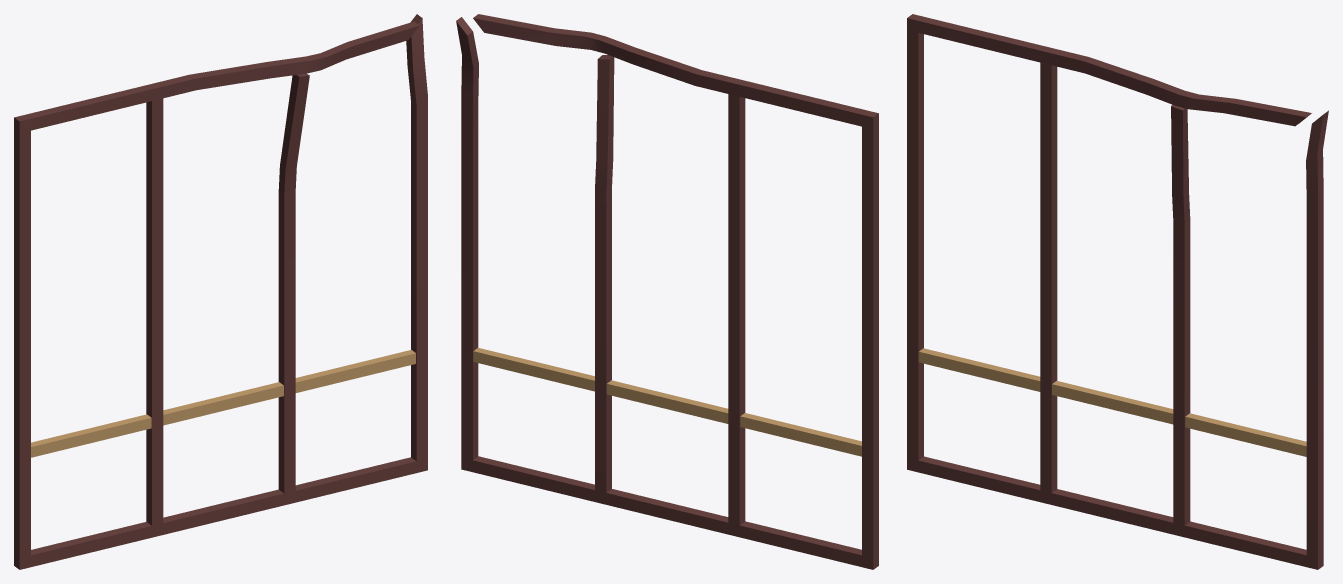
Rendered from DBK_WinBig_Metal_90.fbx.
The picture shows the model from 3 angles, left to right: view 1: azimuth 30°, elevation 25°; view 2: azimuth 150°, elevation 25°; view 3: azimuth 330°, elevation 25°; orthographic projection.
Parts seen in each view (by area): view 1: DBK_WinBig_Metal_90; view 2: DBK_WinBig_Metal_90; view 3: DBK_WinBig_Metal_90.
Boxes of the visible parts, x1,y1,x2,y2 form: DBK_WinBig_Metal_90: (14, 14, 427, 569); DBK_WinBig_Metal_90: (456, 14, 878, 569); DBK_WinBig_Metal_90: (907, 14, 1328, 569).
Bounding box in the file's own units: 200 × 210 × 18.37.
